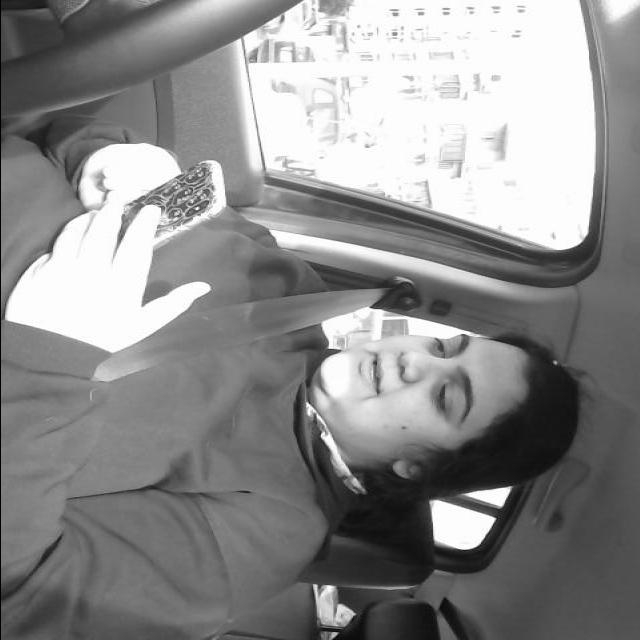mobile use: (125, 154, 228, 252)
